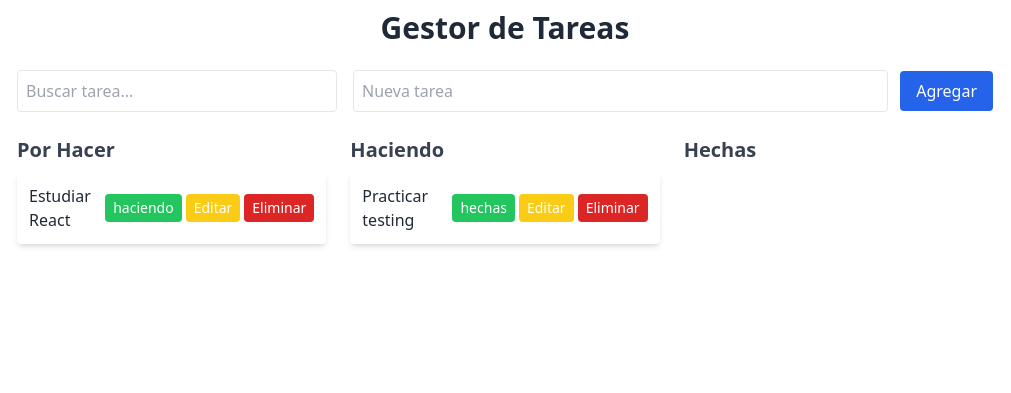
Test case: Todo App › permite cambiar una tarea de "por hacer" a "haciendo"
Type "Tarea para cambiar estado" into the field with placeholder "Nueva tarea" at (621, 91), box [353,70,888,112]
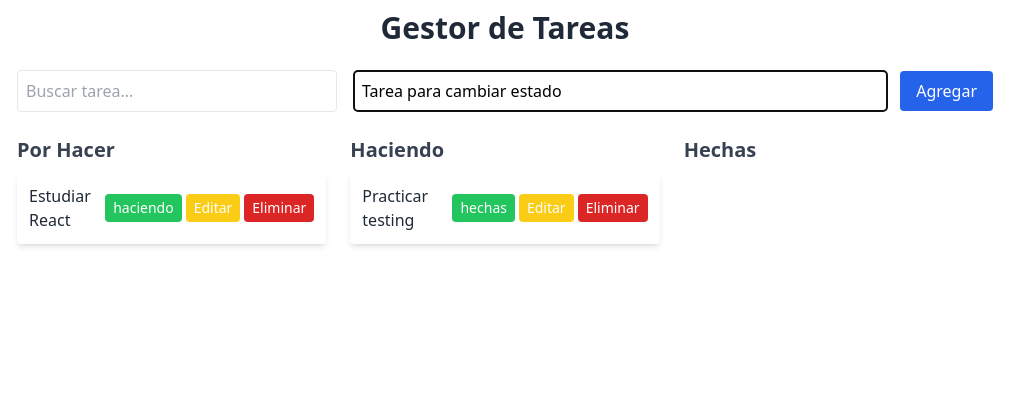
Click the button "Agregar" at (947, 91), box [900,71,993,111]
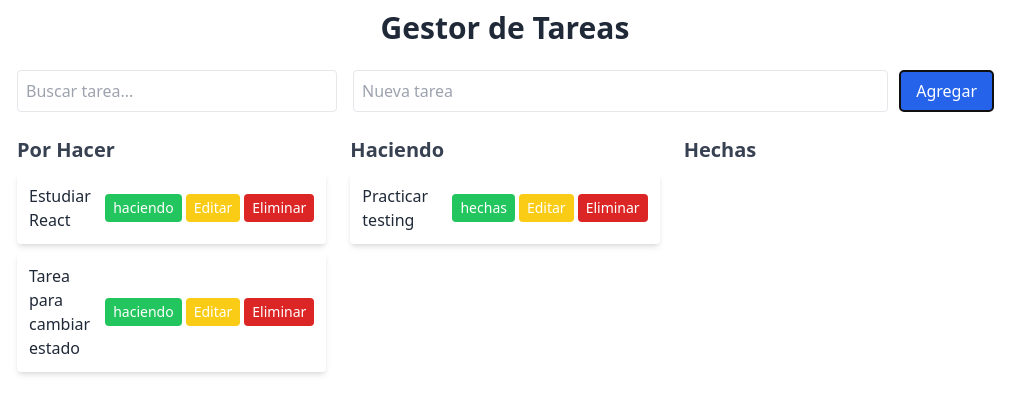
Click the button "haciendo" below "Tarea para cambiar estado" at (143, 312), box [105,298,182,326]
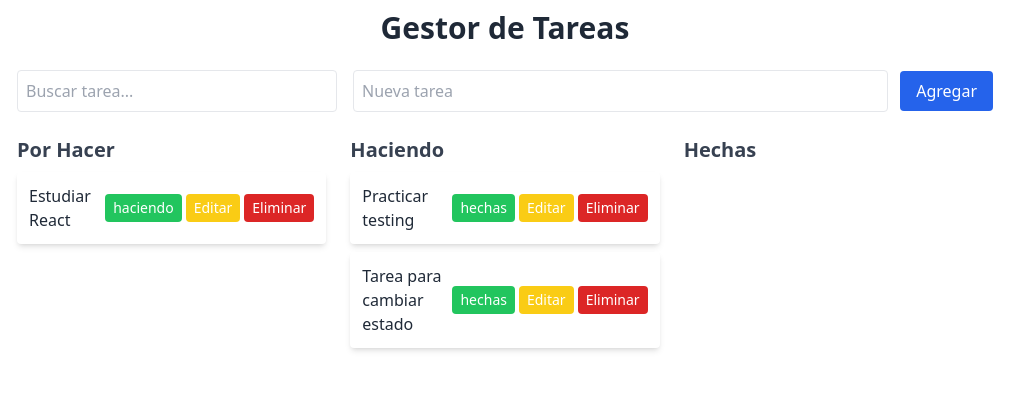
Expected: the text "Tarea para cambiar estado" is shown, [362,264,444,336]
Expected: the button "hechas" below "Tarea para cambiar estado" is shown, [452,286,515,314]
